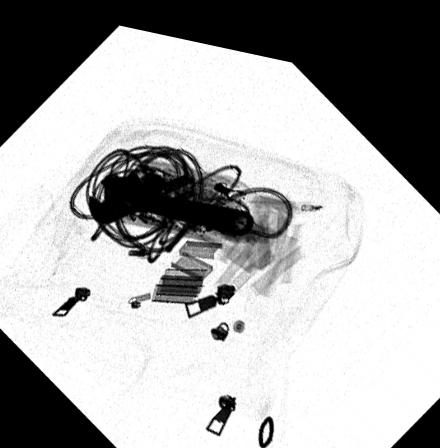Wrench: (85, 169, 257, 226)
